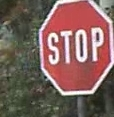stop: (39, 0, 111, 96)
